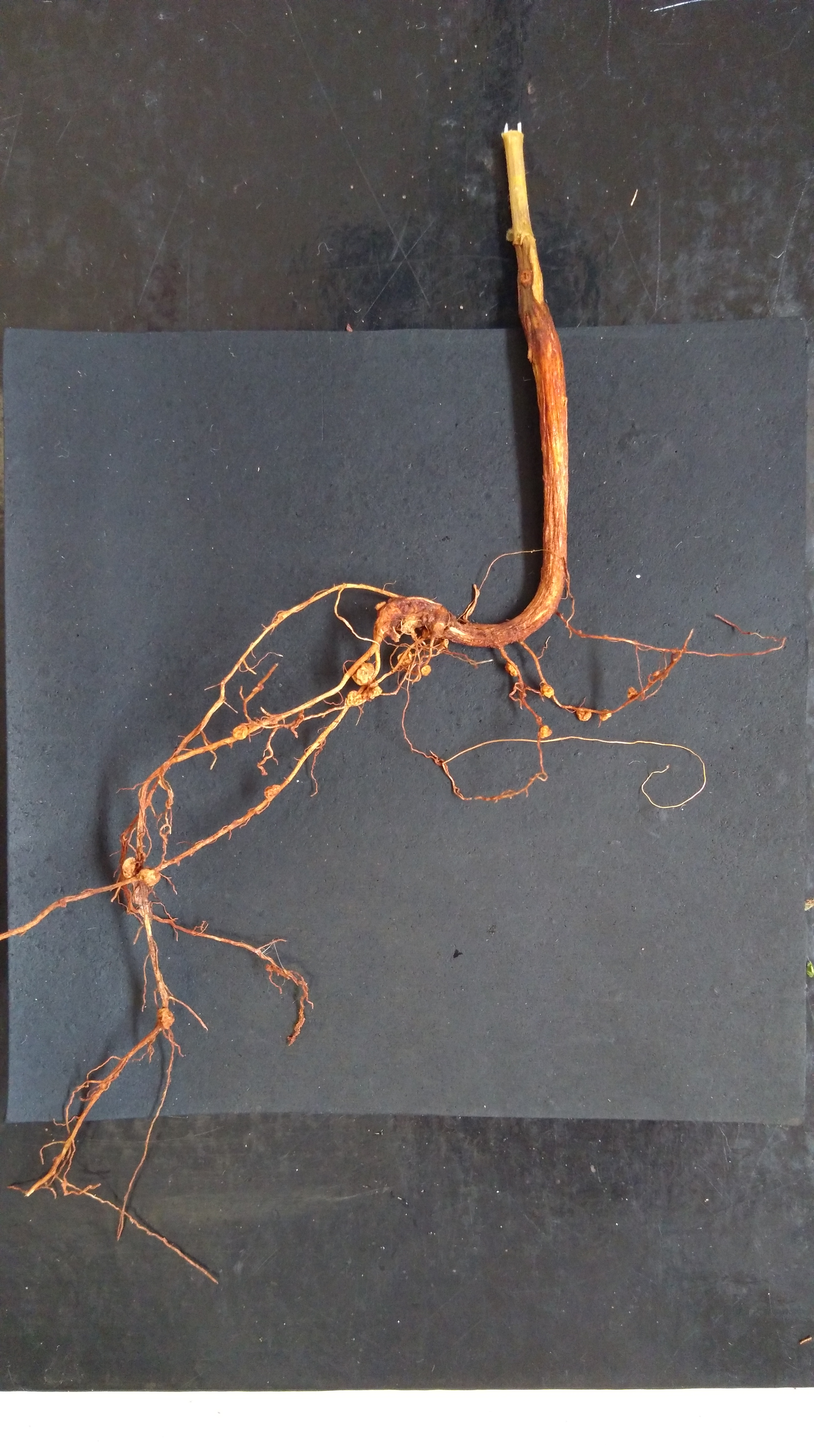nodule: (350, 662, 375, 686), (155, 1006, 177, 1031), (137, 868, 162, 887), (121, 856, 136, 878), (346, 690, 363, 706), (396, 649, 414, 664), (263, 784, 281, 799), (540, 683, 556, 699), (538, 724, 554, 740), (233, 724, 248, 740), (504, 662, 518, 678), (367, 685, 383, 699), (576, 709, 592, 722), (599, 708, 612, 722), (626, 685, 638, 700), (420, 665, 433, 677)
